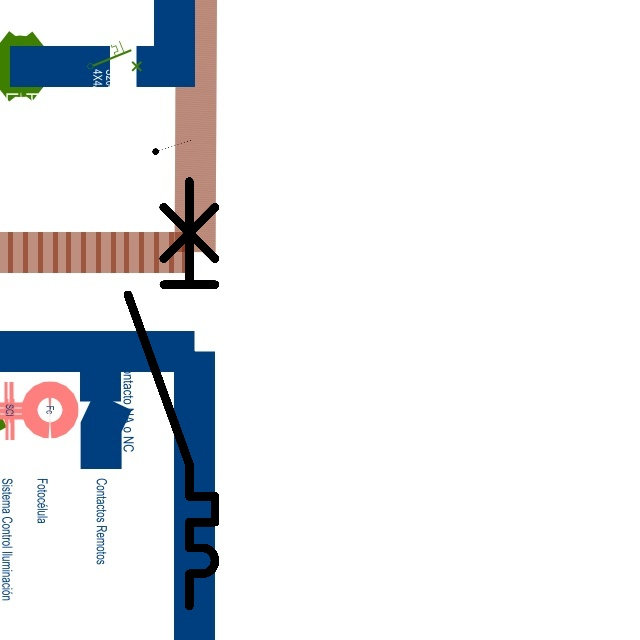interruptor_termomagnetico: (117, 170, 226, 616)
